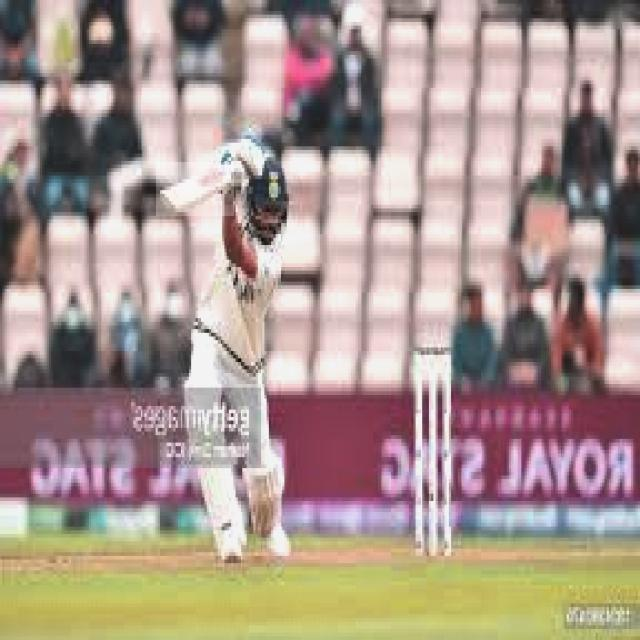bat: (156, 161, 245, 220)
toe: (150, 191, 185, 218)
